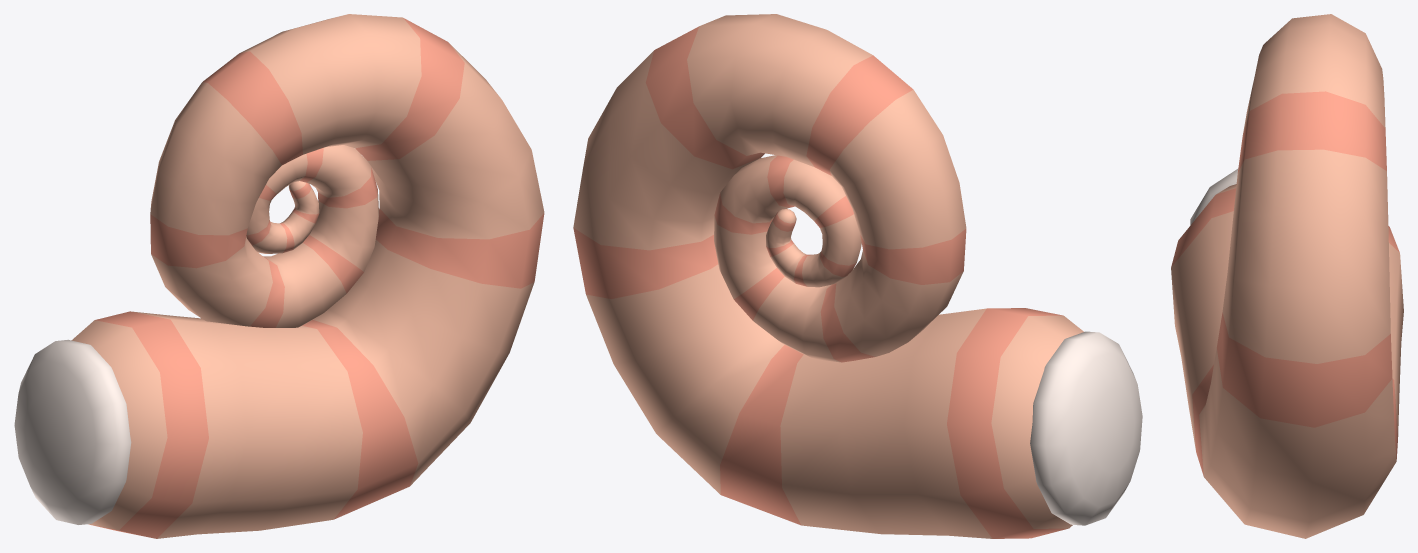
The model's file is shell_big.glb.
The picture shows the model from 3 angles, left to right: view 1: azimuth 30°, elevation 25°; view 2: azimuth 150°, elevation 25°; view 3: azimuth 270°, elevation 25°; orthographic projection. The views are drawn at different scales.
Parts seen in each view (by area): view 1: shell_big; view 2: shell_big; view 3: shell_big.
Boxes of the visible parts, x1,y1,x2,y2 form: shell_big: [14, 14, 544, 538]; shell_big: [573, 14, 1142, 538]; shell_big: [1171, 14, 1403, 538].
Bounding box in the file's own units: 1.7 × 1.53 × 0.6565.
